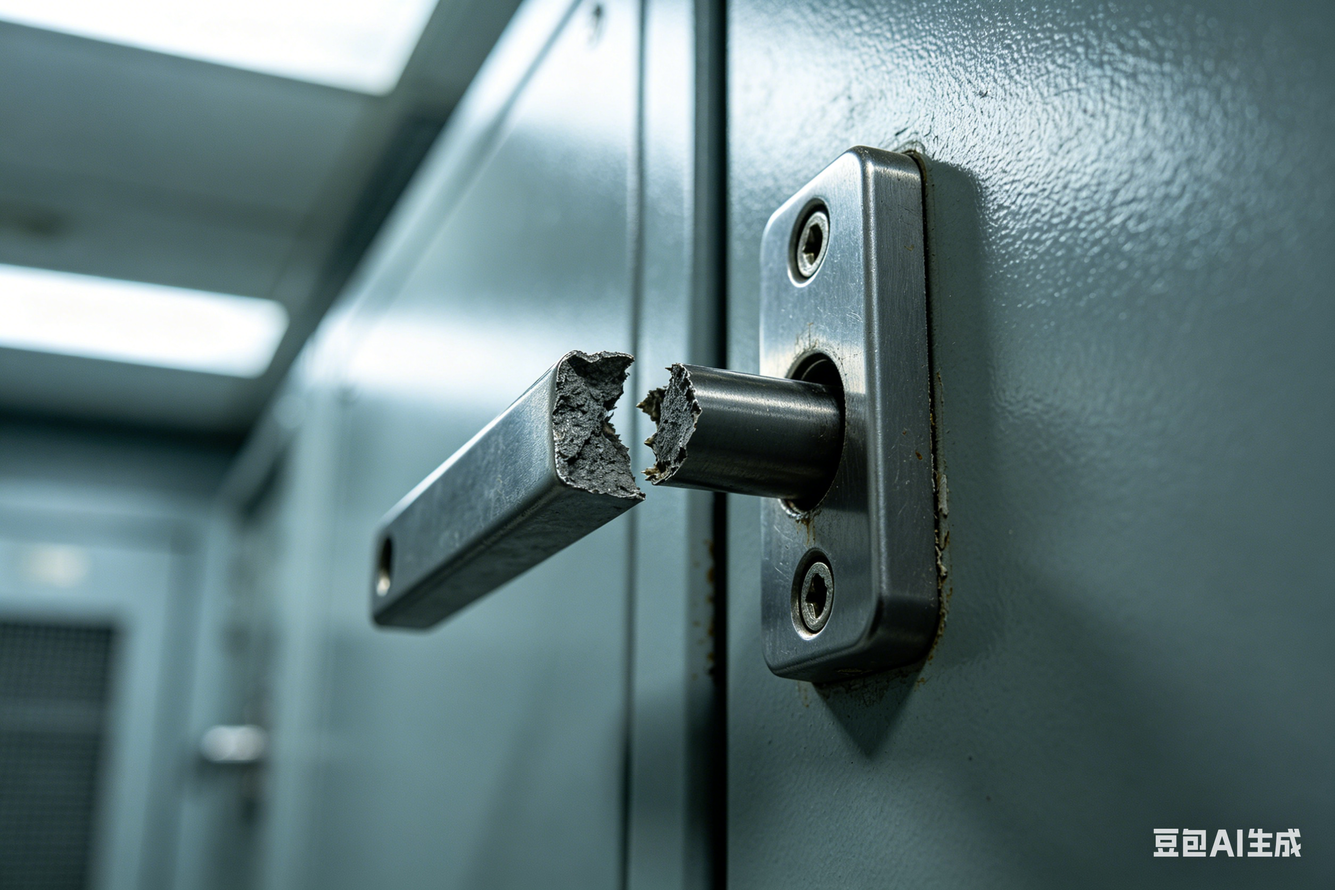BadLock: (511, 327, 786, 519)
